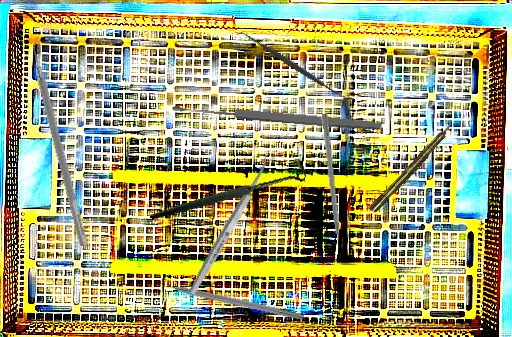Handpiece: (367, 119, 458, 215)
Hook Surgical: (149, 132, 309, 249), (152, 277, 306, 322)
Pusher: (319, 113, 344, 259)
Spatula Surgical: (24, 34, 98, 247), (235, 24, 352, 106)
Surgical Spoon: (186, 151, 277, 297), (170, 101, 384, 133)
